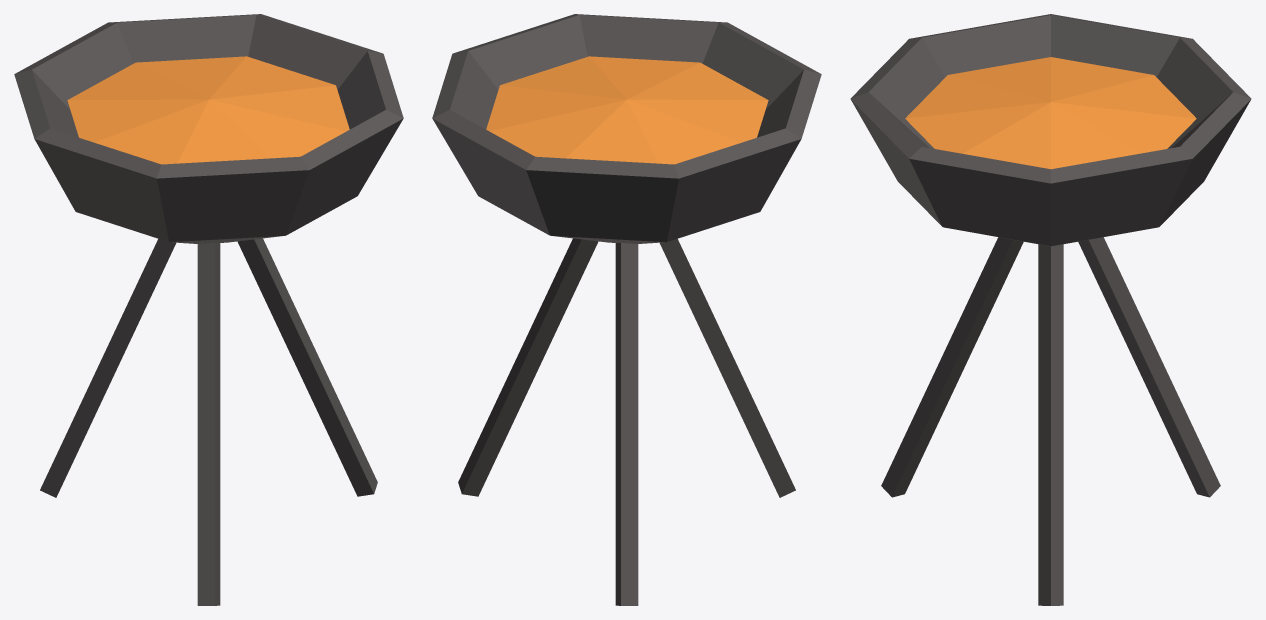
Rendered from Brazier.obj.
3 views of the same model, side by side, from view 1: azimuth 30°, elevation 25°; view 2: azimuth 150°, elevation 25°; view 3: azimuth 270°, elevation 25° (orthographic).
Parts seen in each view (by area): view 1: Brazier; view 2: Brazier; view 3: Brazier.
Part boxes in pixels (x1,y1,x2,y2): Brazier: [14, 14, 403, 605]; Brazier: [432, 14, 821, 605]; Brazier: [850, 14, 1251, 605].
Size of the model in its own units: 1.1 by 1.33 by 1.1.
1 material, 1 textured.
